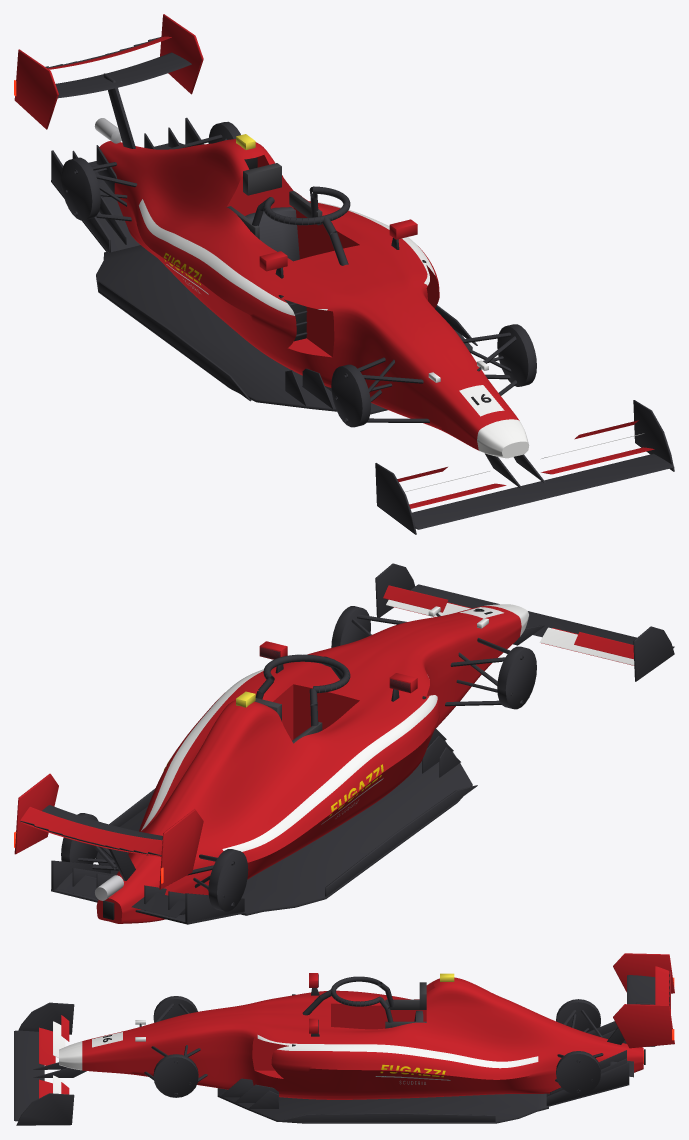
File: fugazzi_sf26.glb
3 views of the same model, one above another, from view 1: azimuth 30°, elevation 25°; view 2: azimuth 150°, elevation 25°; view 3: azimuth 270°, elevation 25° (orthographic). The views are drawn at different scales.
Parts seen in each view (by area): view 1: fugazzi_sf26; view 2: fugazzi_sf26; view 3: fugazzi_sf26.
Boxes of the visible parts, <box> form: fugazzi_sf26: <box>14,14,674,534</box>; fugazzi_sf26: <box>14,563,674,924</box>; fugazzi_sf26: <box>14,953,674,1125</box>.
Size of the model in its own units: 1.82 by 1.02 by 5.59.
Materials: 14 (1 with a texture image).
